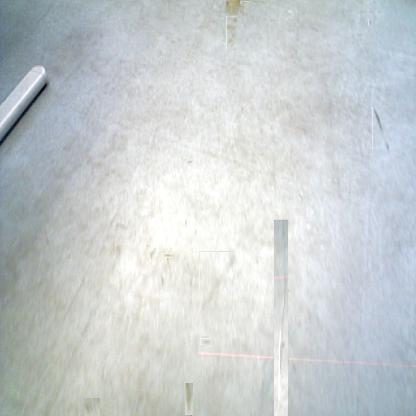liquid: (274, 219, 288, 416), (226, 16, 237, 50), (227, 0, 241, 14), (244, 1, 250, 2)
mark: (199, 251, 235, 311), (372, 106, 389, 150), (84, 398, 100, 416), (185, 383, 193, 415), (148, 247, 156, 261), (201, 337, 210, 346), (163, 252, 172, 260), (279, 286, 288, 294), (185, 157, 193, 165), (160, 275, 164, 287), (368, 18, 373, 26)
